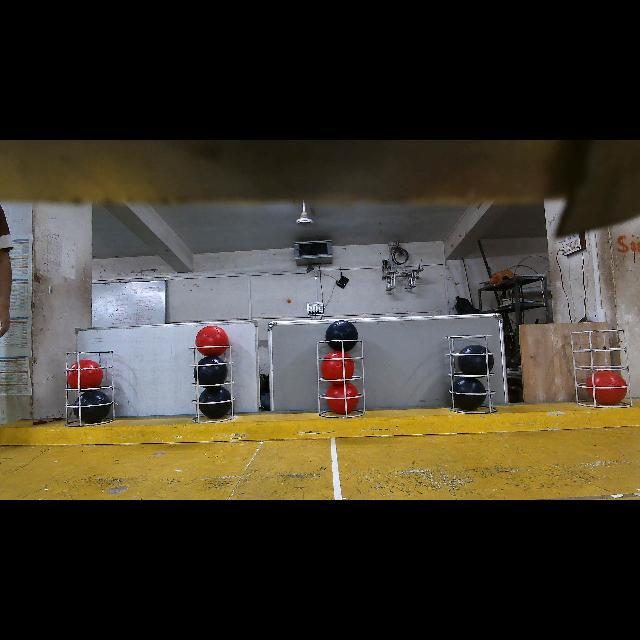P: (74, 390, 111, 424), (455, 344, 492, 375), (454, 378, 488, 411), (199, 386, 231, 419), (326, 320, 359, 352), (194, 355, 228, 385)
R: (586, 371, 628, 405), (66, 359, 104, 389), (326, 382, 359, 414), (195, 325, 229, 356), (321, 350, 355, 380)
S: (569, 331, 633, 409), (445, 335, 499, 415), (64, 350, 118, 428), (316, 340, 366, 420), (186, 345, 236, 423)
